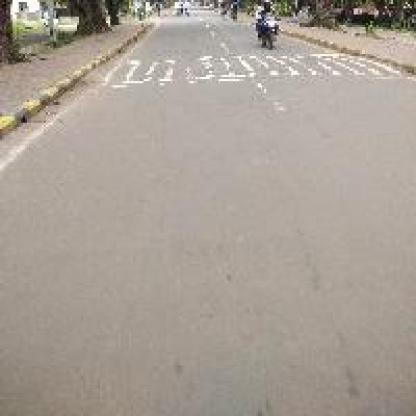Speed Bump: (90, 48, 406, 94)
